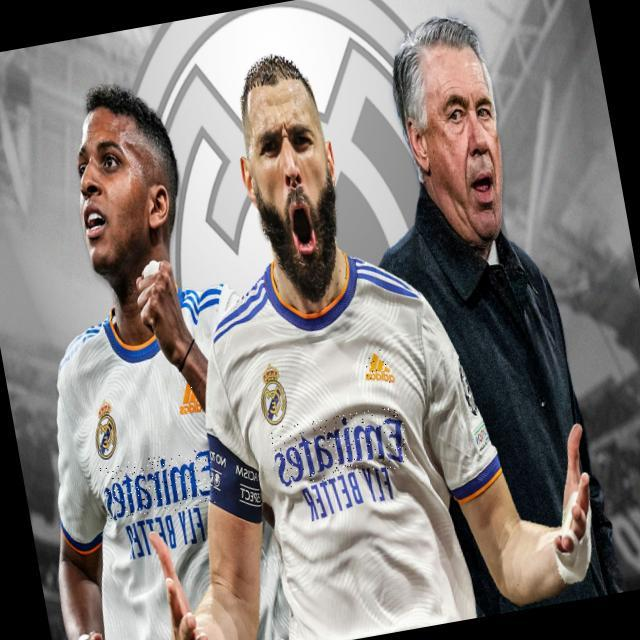Adidas: (360, 347, 395, 387), (174, 377, 204, 417)
Emirates: (269, 405, 411, 489), (99, 448, 218, 522)
